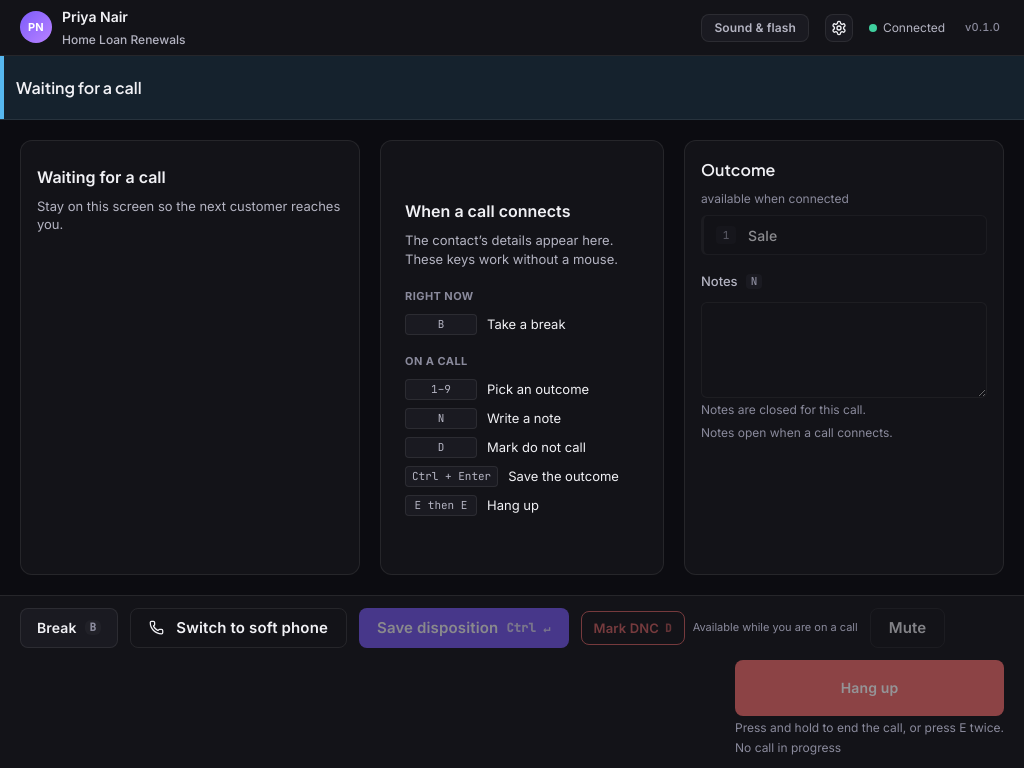
Test: Switch to soft phone › is offered in the action bar and as the break menu’s last entry, with the flag on
This screenshot has width=1024, height=768.
expect the button with test id "switch-to-softphone" is shown: met, box [130,608,347,648]
Click the button "Break B" at {"x": 69, "y": 628}, box [20,608,118,648]
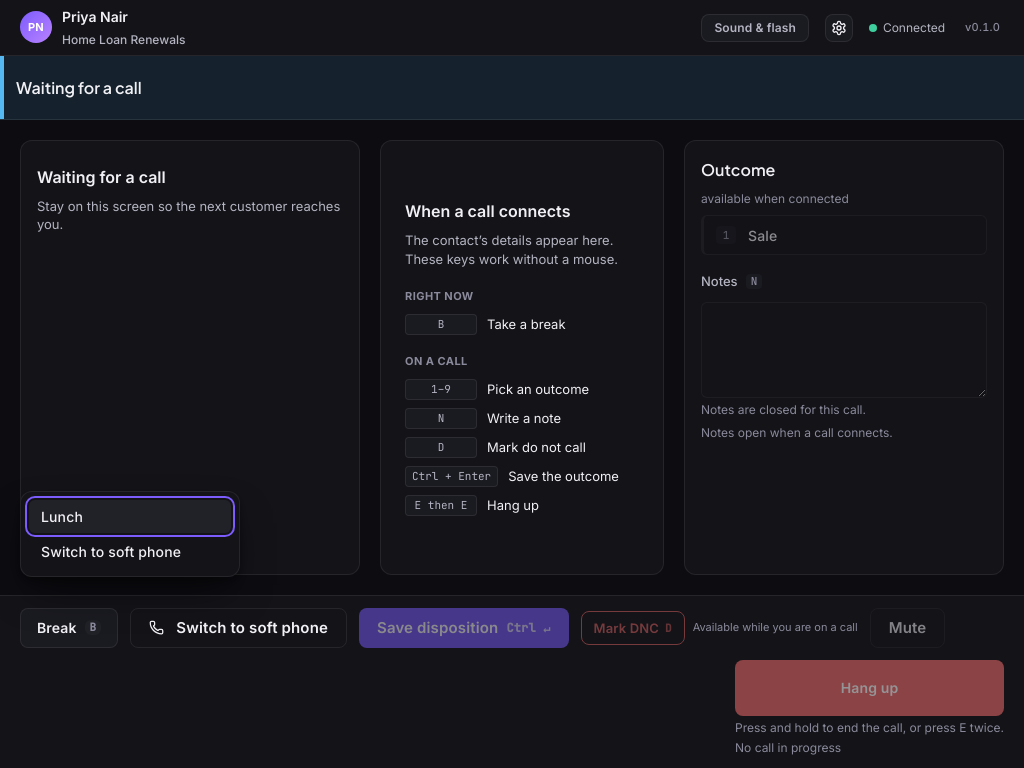
expect the menu items read "Lunch", "Switch to soft phone", in this order: met, box [29,500,231,533]; [29,535,231,568]
